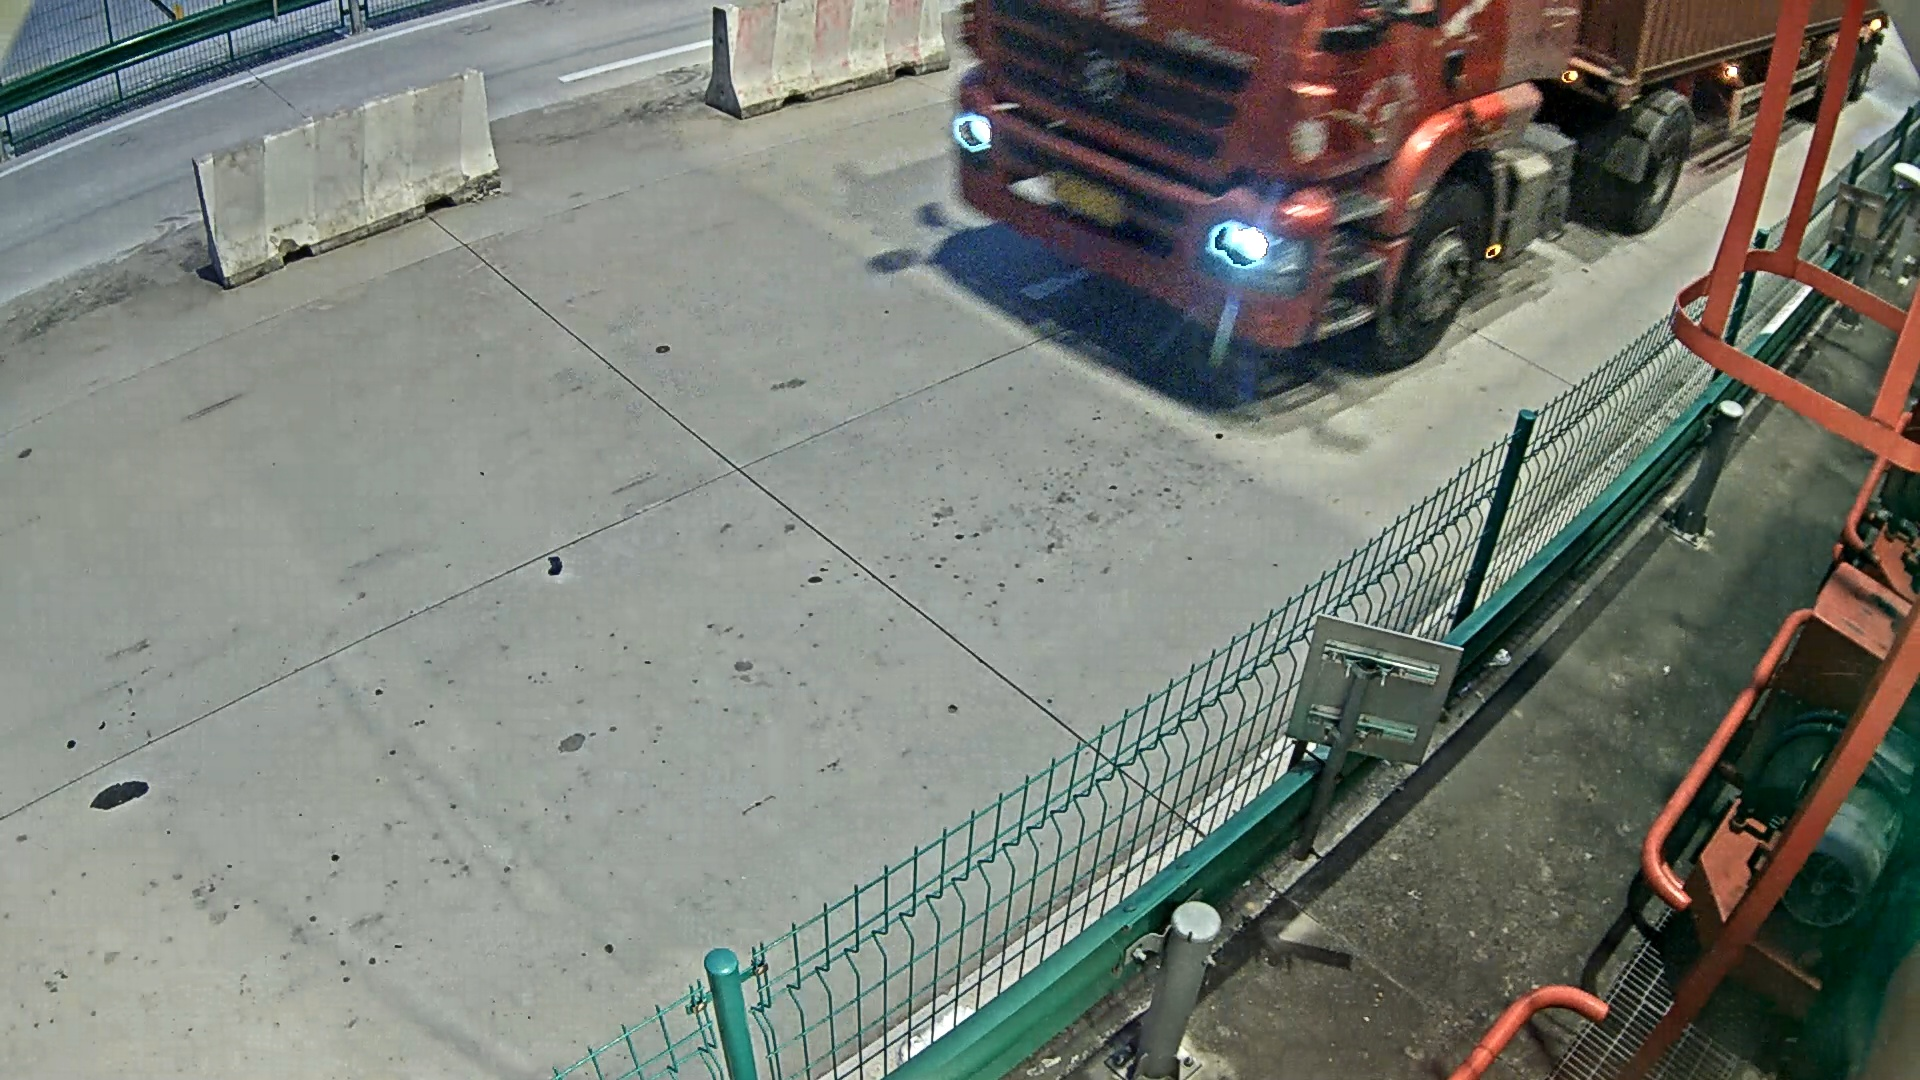head: (946, 9, 1479, 422)
plate: (1045, 169, 1160, 259)
